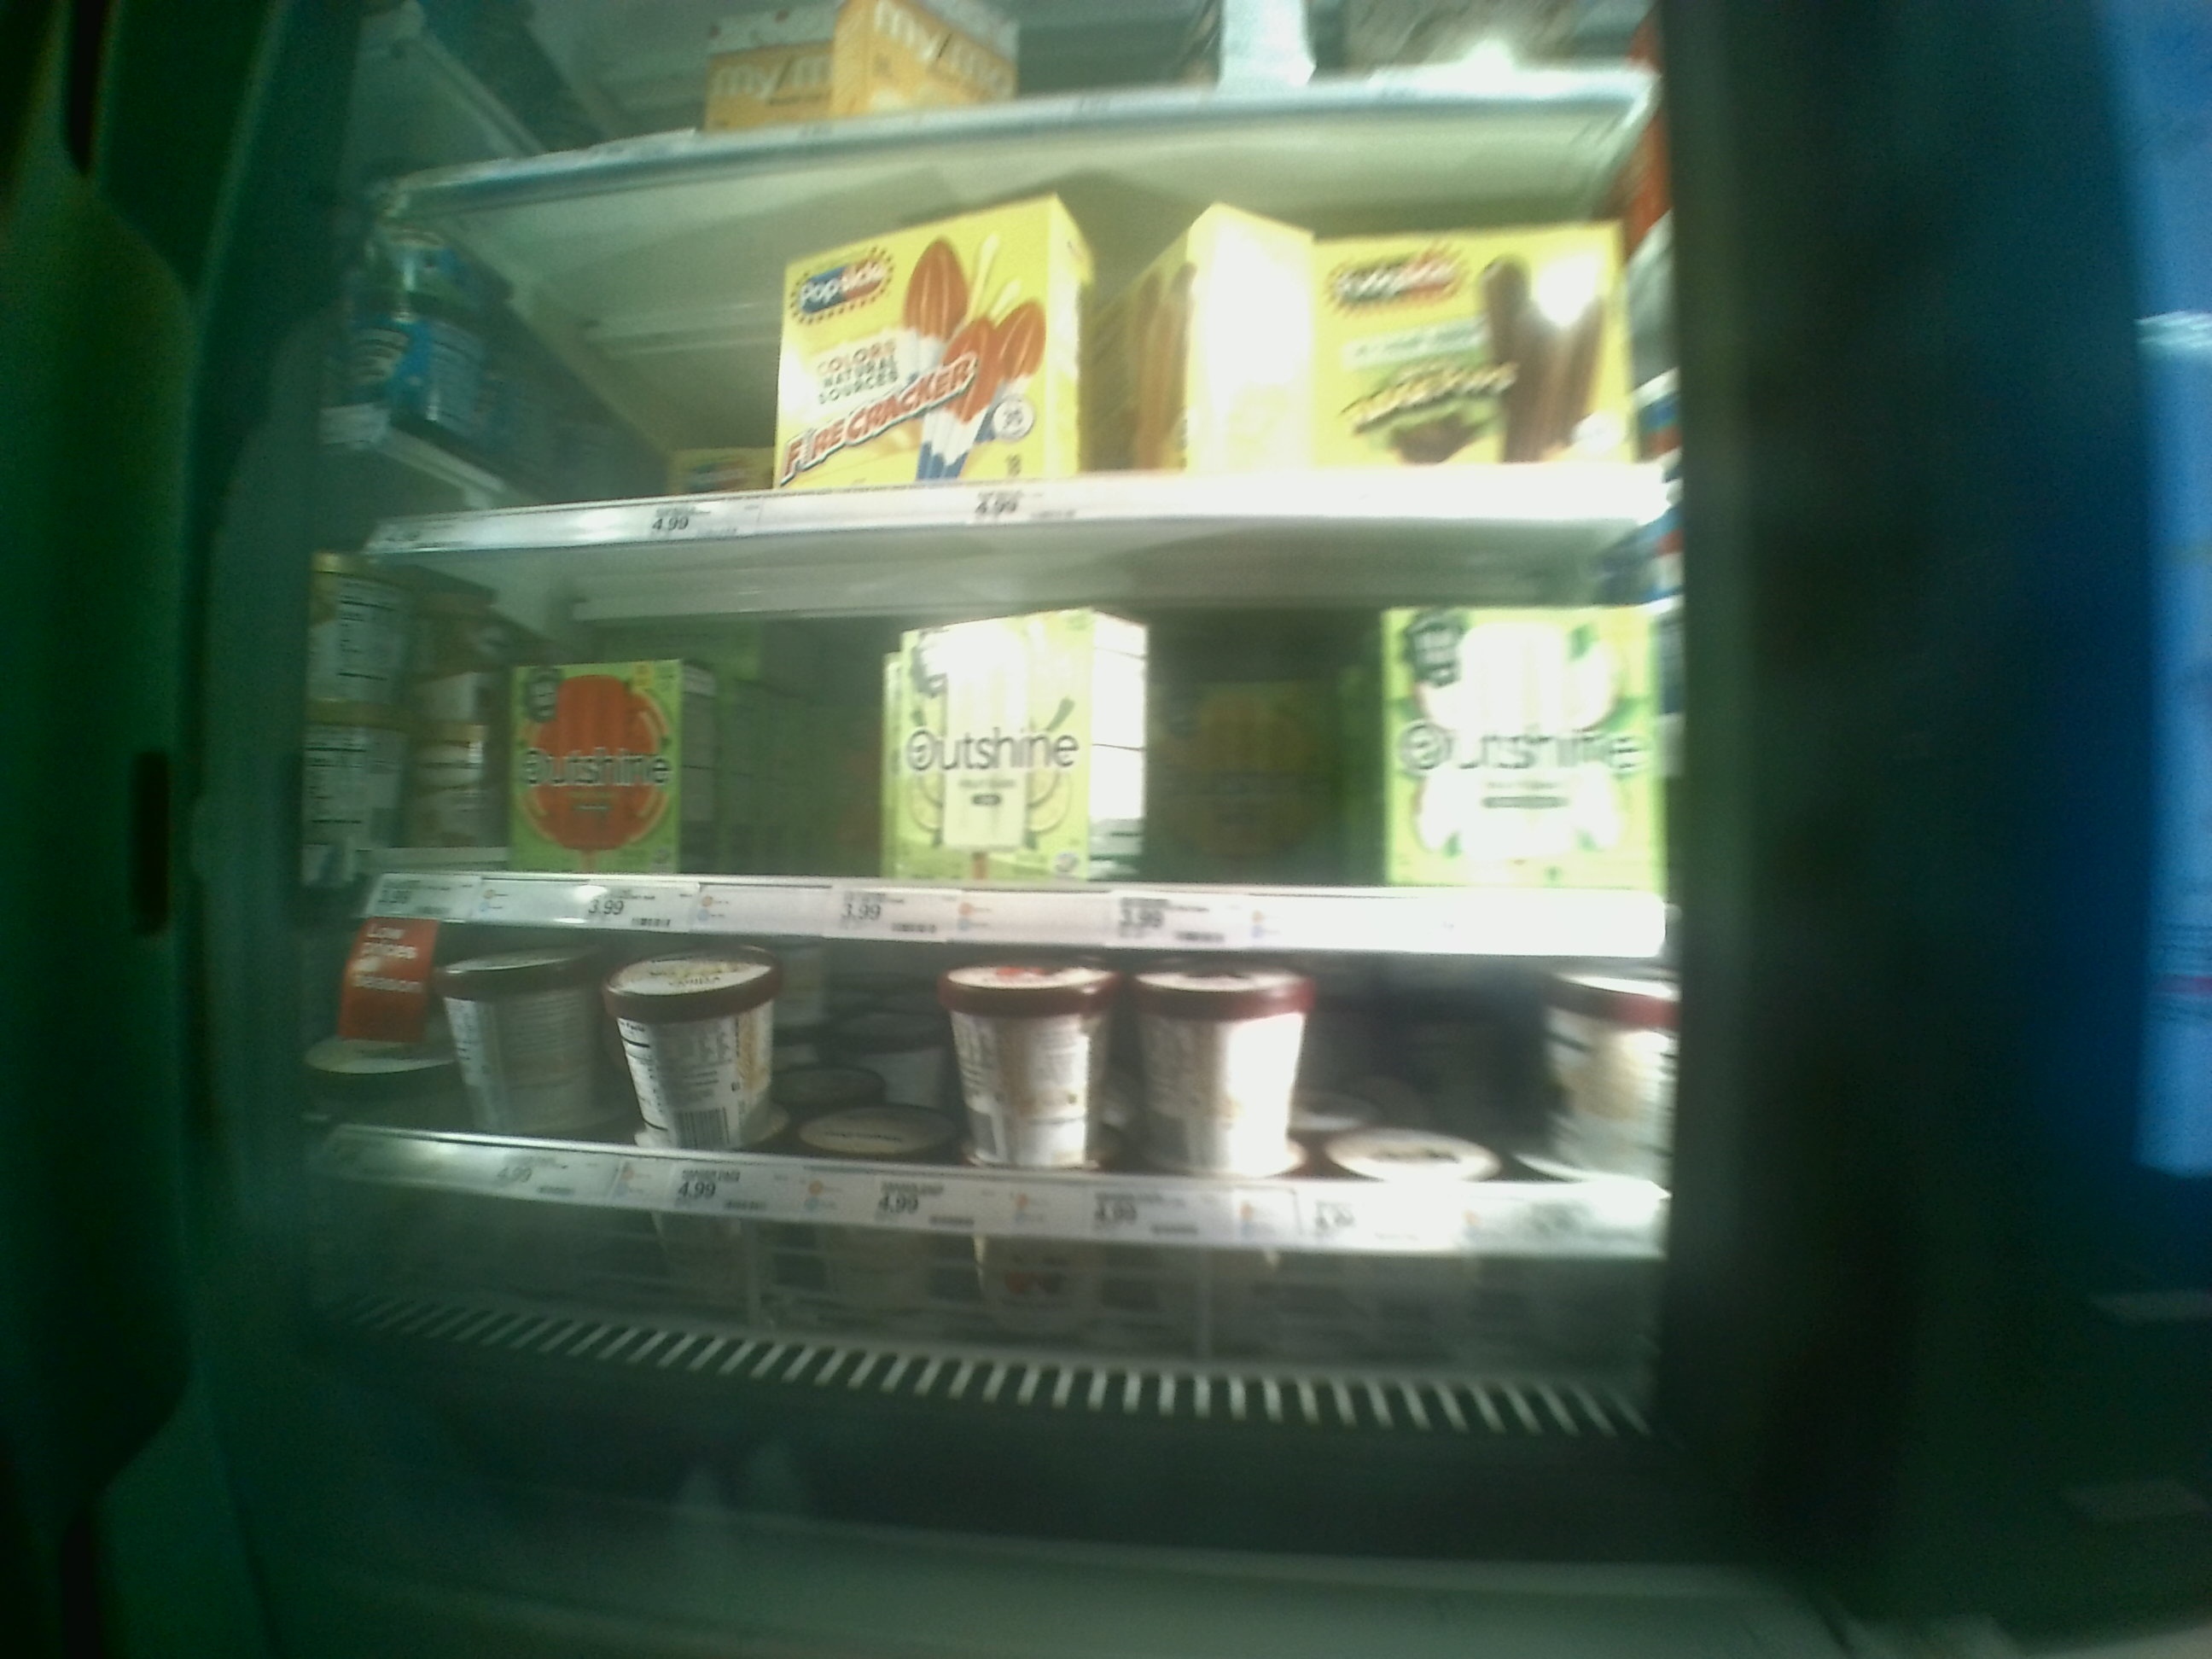shelf: (343, 927, 1672, 1361), (348, 532, 1672, 958), (354, 197, 1681, 532)
